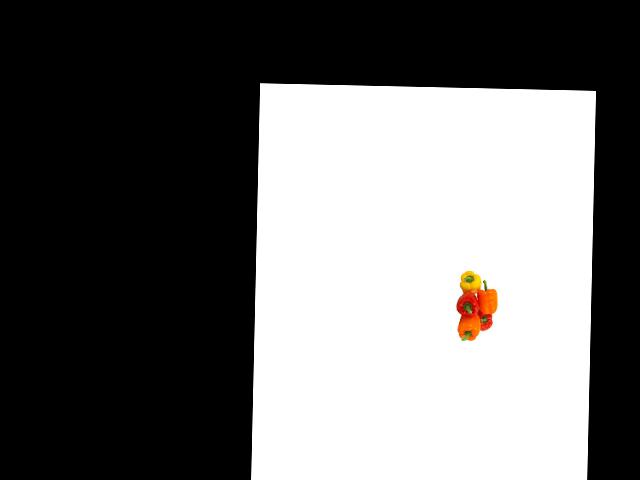bell_pepper: (454, 312, 483, 347)
